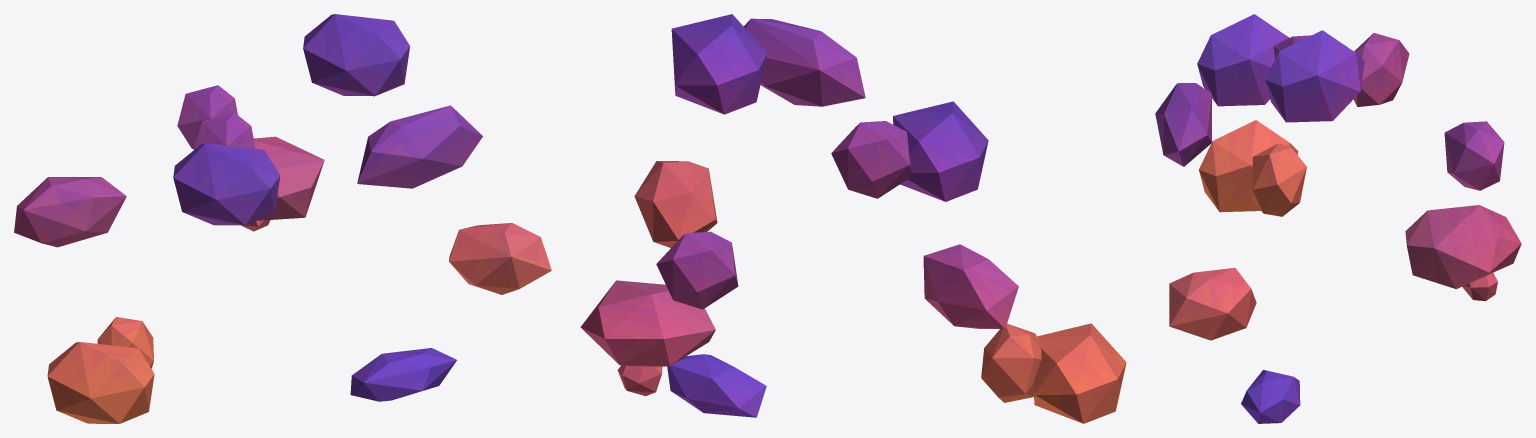
Rendered from Arbre1f.obj.
3 renders of one model, left to right at view 1: azimuth 30°, elevation 25°; view 2: azimuth 150°, elevation 25°; view 3: azimuth 270°, elevation 25°, orthographic. The views are drawn at different scales.
Visible parts, largest first — view 1: Arbre2:Arbre2:Group37182; view 2: Arbre2:Arbre2:Group37182; view 3: Arbre2:Arbre2:Group37182.
Part boxes in pixels (x1,y1,x2,y2): Arbre2:Arbre2:Group37182: [14, 14, 551, 423]; Arbre2:Arbre2:Group37182: [580, 14, 1126, 423]; Arbre2:Arbre2:Group37182: [1155, 14, 1521, 423].
Size of the model in its own units: 11.64 by 9.12 by 8.23.
1 material, 1 textured.
